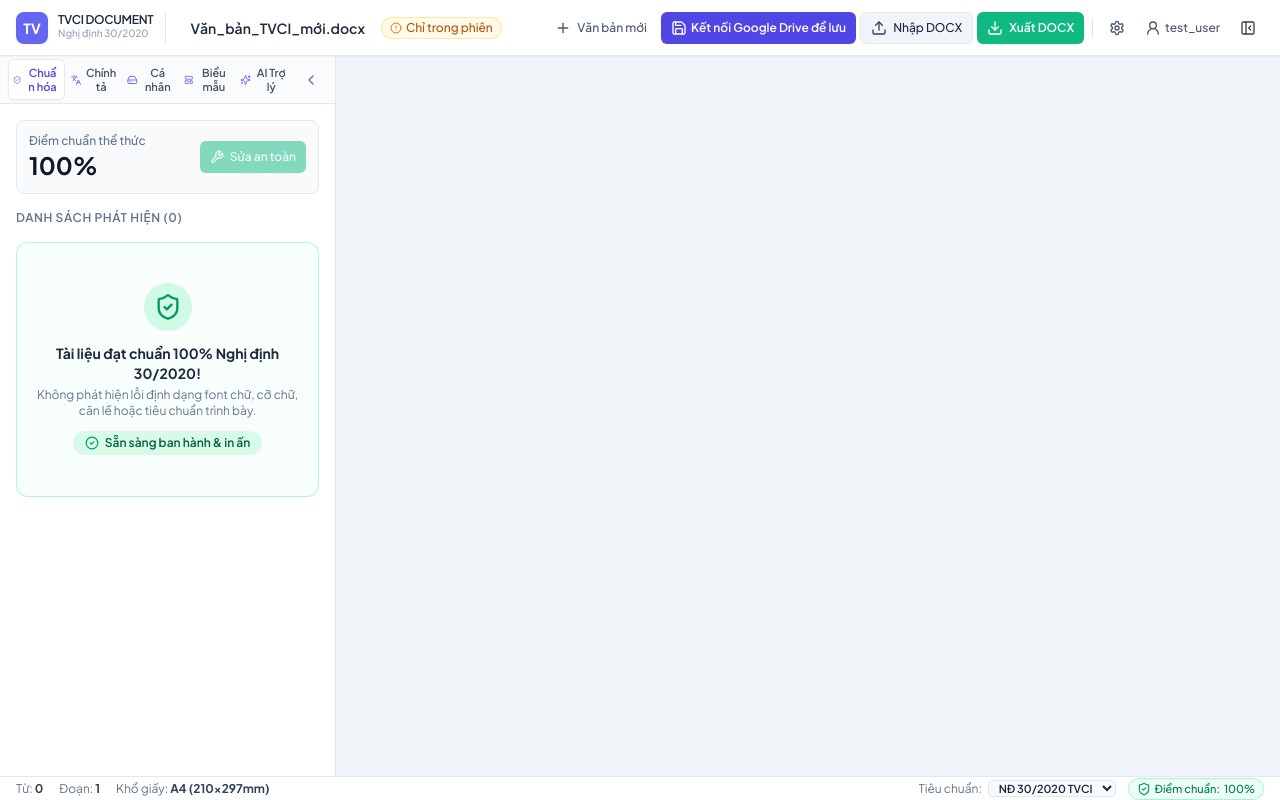
it: Workspace sidebar layout and interaction › allows the header toggle to close and reopen the sidebar
Click the button named "Ẩn bảng công cụ" at (1248, 28), box [1232,12,1264,44]
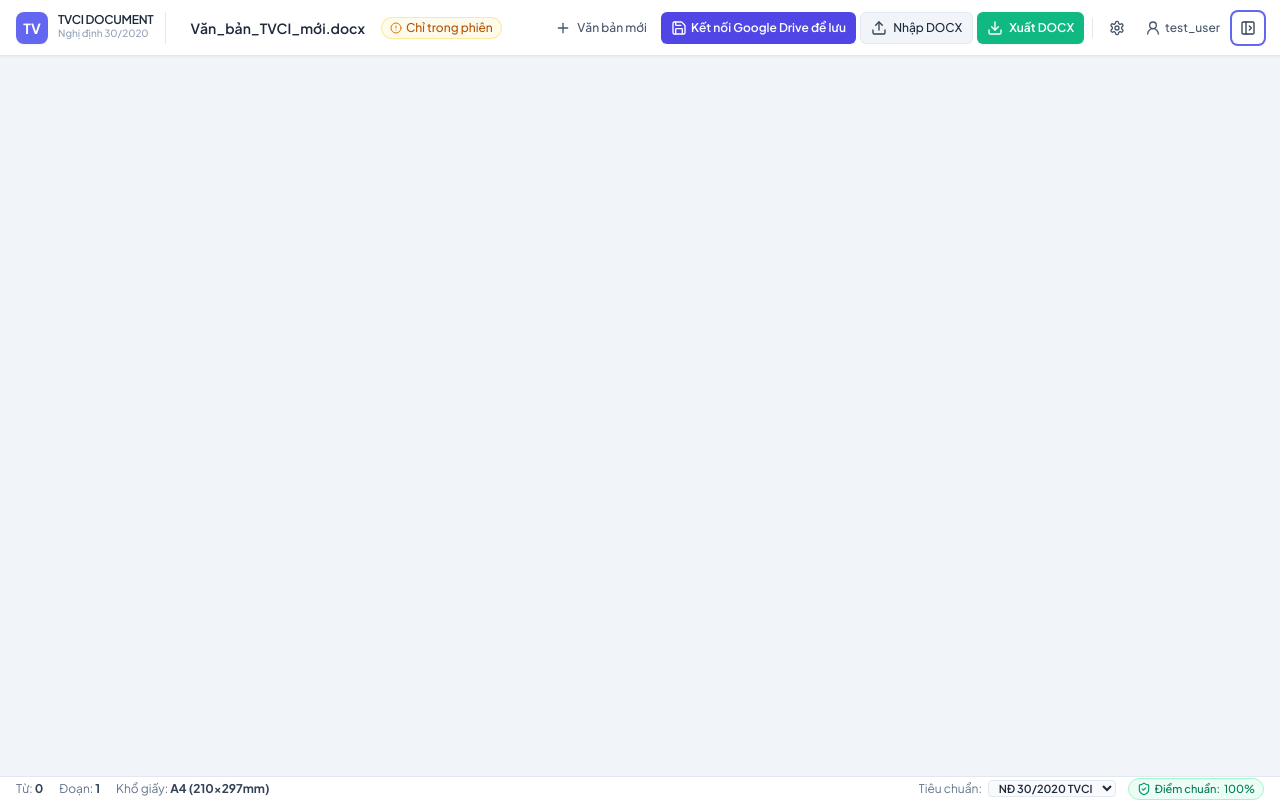
Now the 8th icon has class "lucide-panel-left-open", box [1240,20,1256,36]
Click the button named "Hiện bảng công cụ" at (1248, 28), box [1232,12,1264,44]
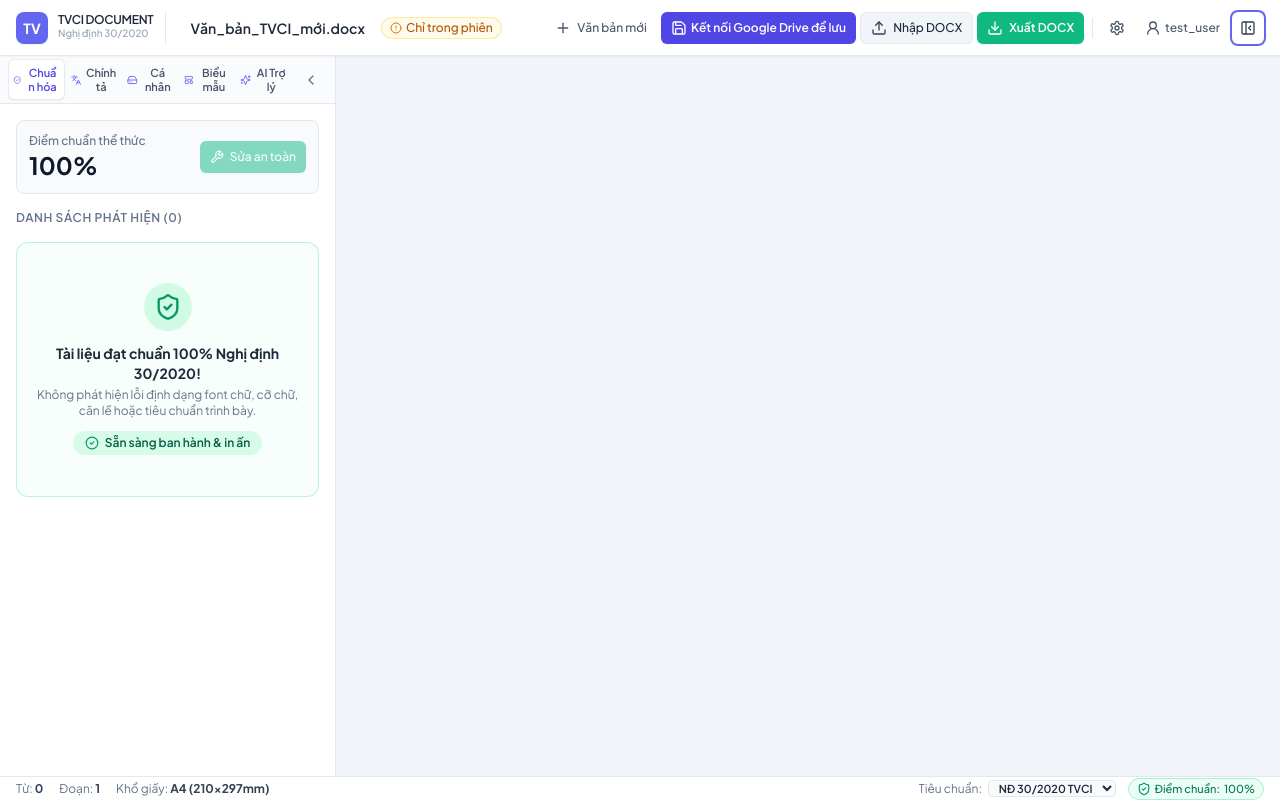
Now the element named "Bảng công cụ" is shown, box [0,56,336,776]
